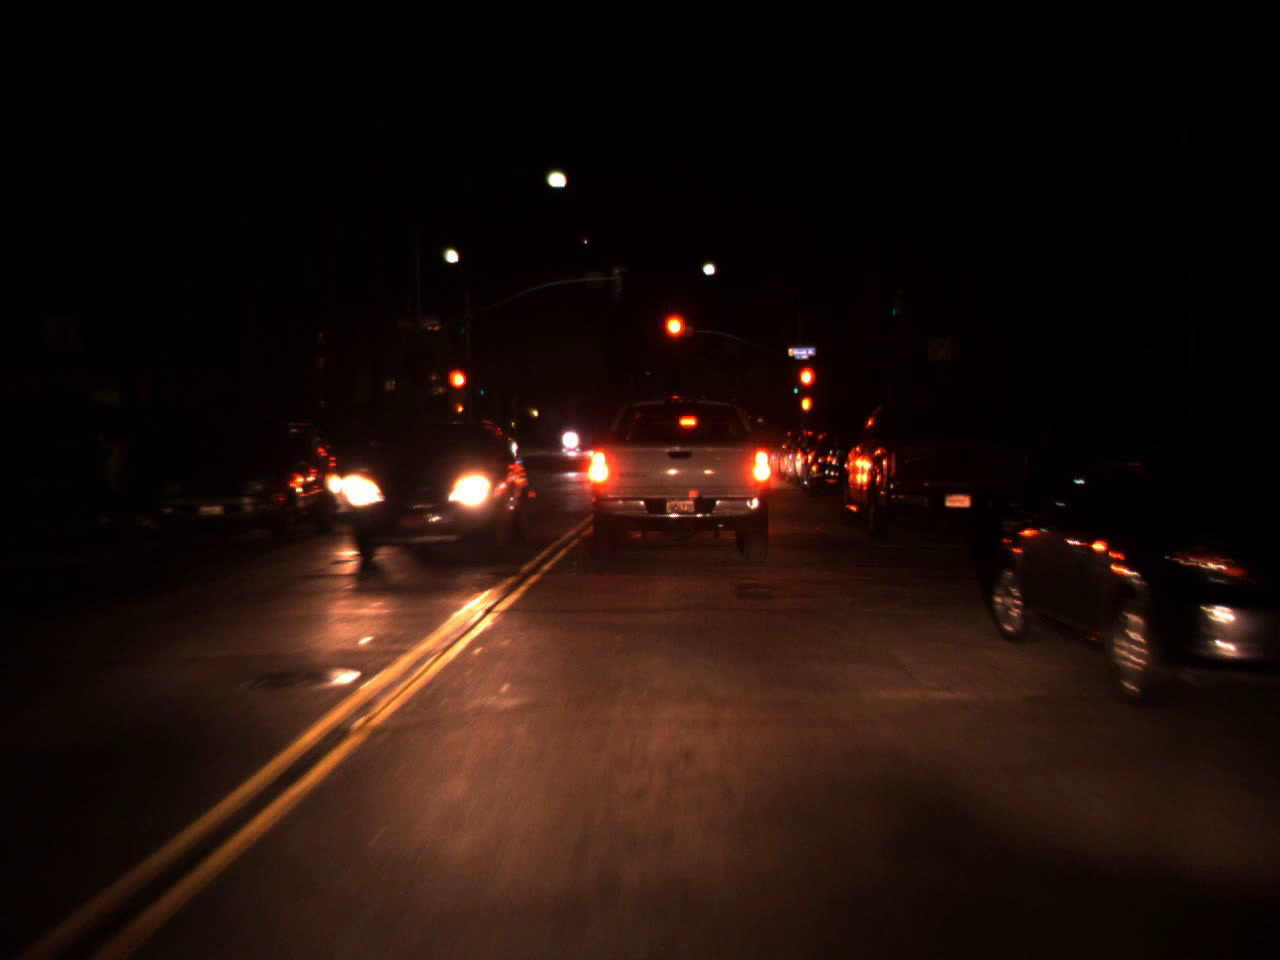stop: (661, 311, 688, 365), (446, 365, 470, 413), (796, 363, 817, 411)
